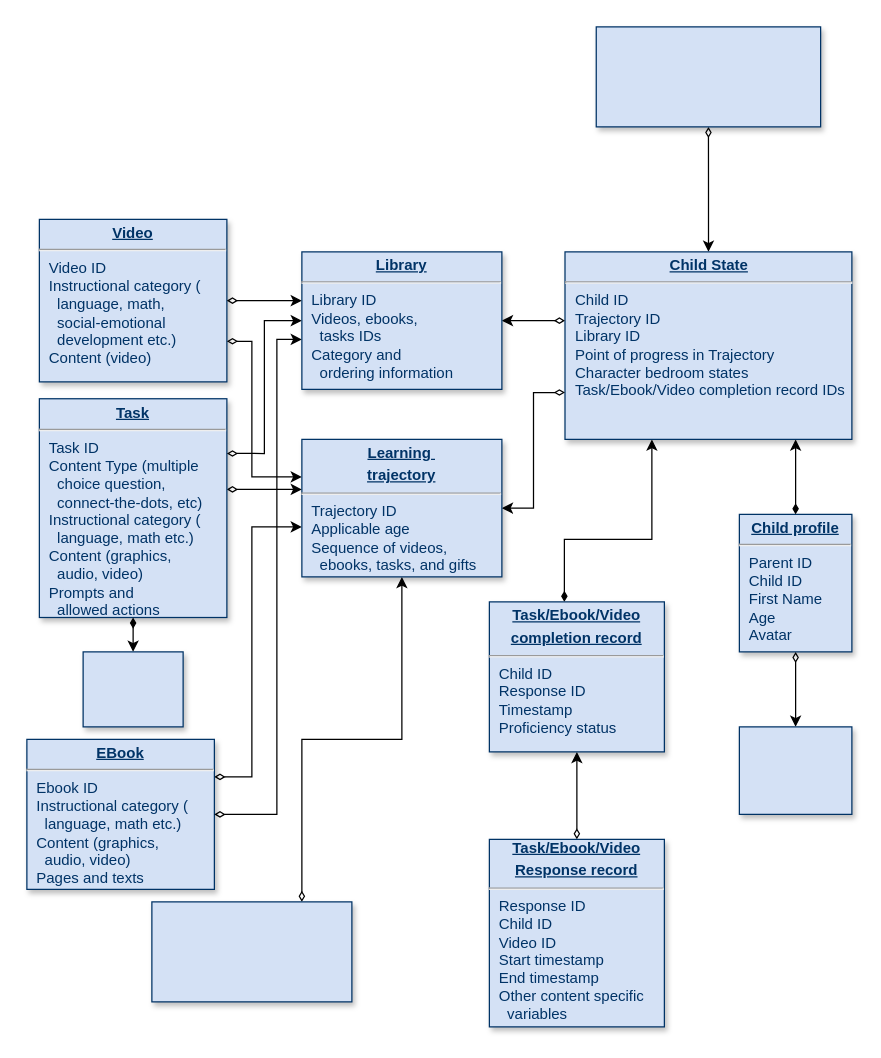
This 881x1058 diagram has some shape labels left out. The centre of each missing label's shape, as x and y in pixels:
"Character bedrooms state Child ID Bedroom owner character Item inventory" goes at [709,78].
"Gifts Gift ID Bedroom owner character Content" goes at [252,953].
"Help Video Task ID Content" goes at [134,691].
"Parent profile Parent ID Email" goes at [796,772].
